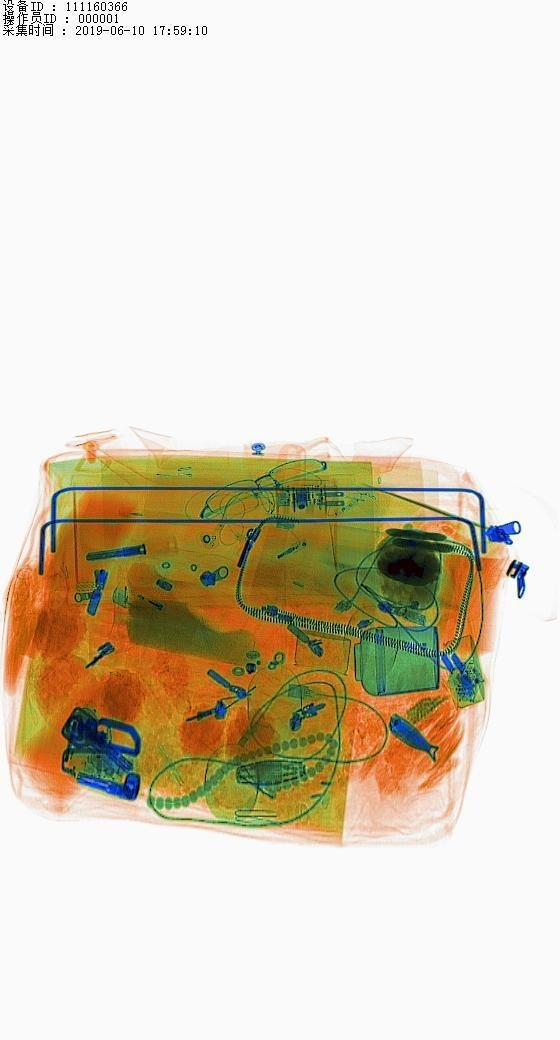NonmetallicFire: (91, 571, 201, 622)
